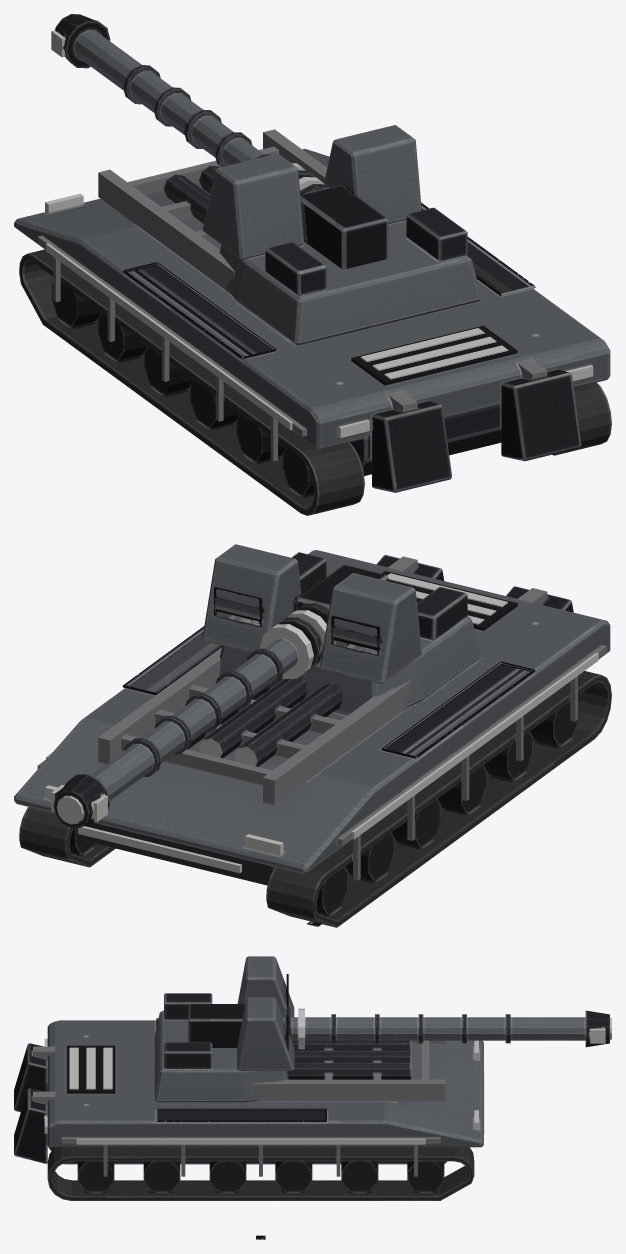
The model's file is chs_hurler.fbx.
3 renders of one model, top to bottom at view 1: azimuth 30°, elevation 25°; view 2: azimuth 150°, elevation 25°; view 3: azimuth 270°, elevation 25°, orthographic. The views are drawn at different scales.
Visible parts, largest first — view 1: base_bar, turret_bar, trackL_bar, barrel_bar, base_glow_running_bar, trackR_bar; view 2: base_bar, turret_bar, trackL_bar, barrel_bar, base_glow_running_bar, trackR_bar, barrel_glow_weapon_bar, base_glow_head_bar, base_glow_weapon_bar; view 3: base_bar, trackR_bar, turret_bar, barrel_bar, base_glow_running_bar, barrel_glow_weapon_bar.
Part boxes in pixels (x1=…): base_bar: x1=14, y1=129, x2=610, y2=492; turret_bar: x1=202, y1=125, x2=481, y2=345; trackL_bar: x1=19, y1=249, x2=364, y2=515; barrel_bar: x1=55, y1=14, x2=388, y2=269; base_glow_running_bar: x1=46, y1=243, x2=593, y2=437; trackR_bar: x1=552, y1=382, x2=611, y2=455; base_bar: x1=14, y1=550, x2=610, y2=885; turret_bar: x1=202, y1=544, x2=481, y2=715; trackL_bar: x1=266, y1=671, x2=611, y2=927; barrel_bar: x1=53, y1=564, x2=388, y2=827; base_glow_running_bar: x1=46, y1=573, x2=598, y2=873; trackR_bar: x1=19, y1=807, x2=115, y2=867; barrel_glow_weapon_bar: x1=51, y1=610, x2=326, y2=824; base_glow_head_bar: x1=45, y1=785, x2=283, y2=855; base_glow_weapon_bar: x1=198, y1=738, x2=257, y2=766; base_bar: x1=14, y1=1018, x2=483, y2=1176; trackR_bar: x1=47, y1=1147, x2=474, y2=1200; turret_bar: x1=154, y1=956, x2=294, y2=1102; barrel_bar: x1=188, y1=1004, x2=609, y2=1047; base_glow_running_bar: x1=44, y1=1038, x2=484, y2=1144; barrel_glow_weapon_bar: x1=298, y1=1008, x2=611, y2=1049.
Size of the model in its own units: 524 by 570 by 1233.
2 materials, 2 textured.
